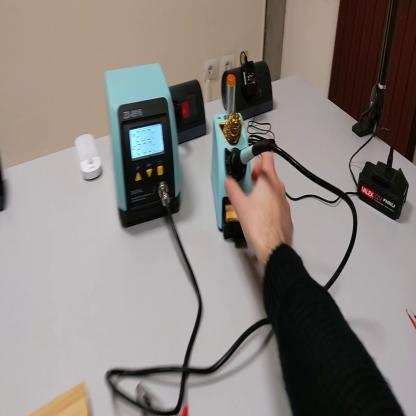electric screwdriver battery: (359, 161, 410, 222)
hand: (228, 155, 295, 258)
high voltage board: (408, 306, 416, 332)
pliers: (135, 383, 189, 415)
socket: (220, 55, 274, 122), (170, 78, 208, 149)
welder base: (213, 69, 256, 257)
welder station: (104, 64, 182, 231)
working area: (27, 381, 92, 414)
